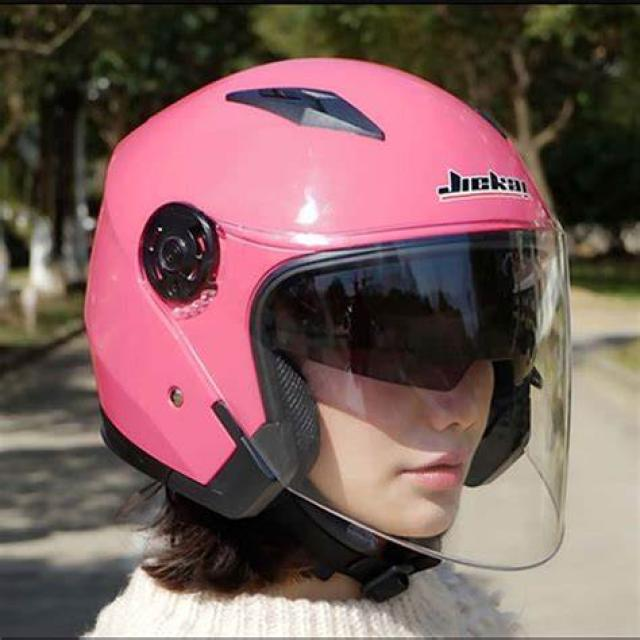helmet: (76, 50, 586, 602)
